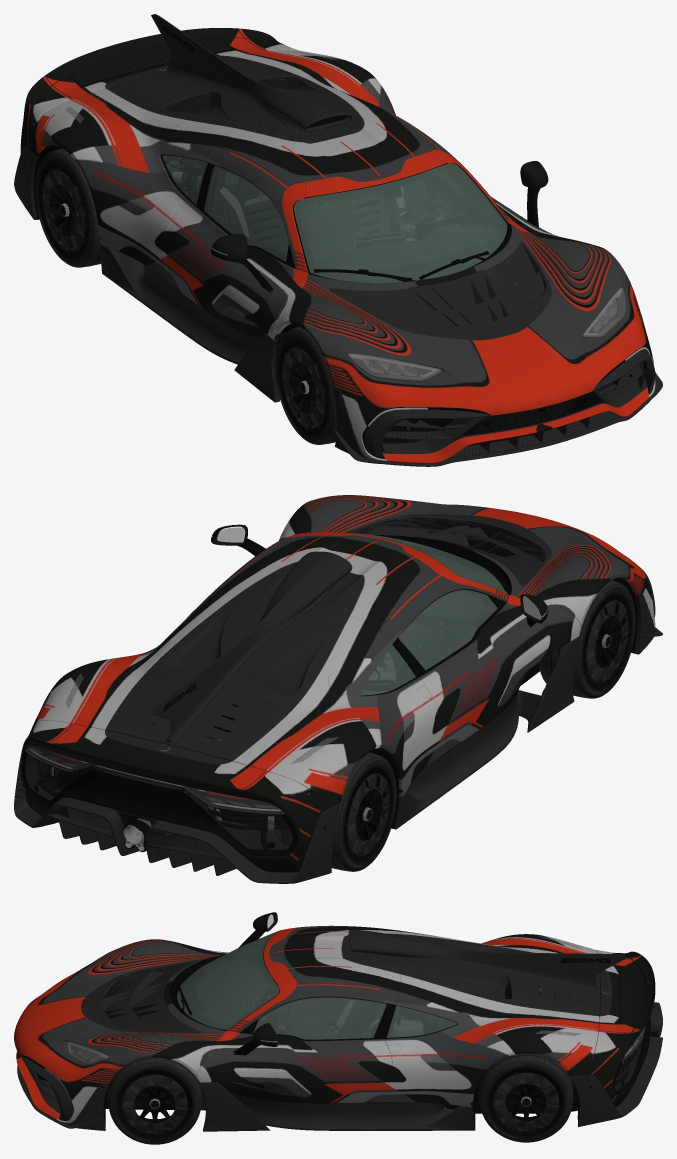
Rendered from silver_arrow.glb.
The picture shows the model from 3 angles, top to bottom: view 1: azimuth 30°, elevation 25°; view 2: azimuth 150°, elevation 25°; view 3: azimuth 270°, elevation 25°; orthographic projection. The views are drawn at different scales.
Visible parts, largest first — view 1: amgprojone_door_R.001_amgprojone_paint_0, amgprojone_rim.006_amgprojone_carbon_0, amgprojone_windshield_amgprojone_clearglass2_0, amgprojone_tailgate.002_amgprojone_carbon5_0, amgprojone_spoiler_amgprojone_plastic_0, amgprojone_door_R.012_amgprojone_interior_alcantara_0, amgprojone_tire_amgprojone_tire_0, amgprojone_rim.008_amgprojone_plastic3_0, amgprojone_rim.004_amgprojone_wheels_0, amgprojone_body.014_interior.001_0, amgprojone_tailgate_amgprojone_decal_grill1_0, amgprojone_headlightframe_R.001_amgprojone_glass.005_0 (+4 smaller); view 2: amgprojone_door_R.001_amgprojone_paint_0, amgprojone_rim.006_amgprojone_carbon_0, amgprojone_tailgate.002_amgprojone_carbon5_0, amgprojone_spoiler_amgprojone_plastic_0, amgprojone_windshield_amgprojone_clearglass2_0, amgprojone_tire_amgprojone_tire_0, amgprojone_tailgate_amgprojone_decal_grill1_0, amgprojone_rim.004_amgprojone_wheels_0, amgprojone_rim.007_amgprojone_plastic2_0, amgprojone_bumper_R_amgprojone_clearglass_0, amgprojone_rim.008_amgprojone_plastic3_0, amgprojone_door_R.012_amgprojone_interior_alcantara_0 (+2 smaller); view 3: amgprojone_door_R.001_amgprojone_paint_0, amgprojone_rim.006_amgprojone_carbon_0, amgprojone_windshield_amgprojone_clearglass2_0, amgprojone_tailgate.002_amgprojone_carbon5_0, amgprojone_tire_amgprojone_tire_0, amgprojone_spoiler_amgprojone_plastic_0, amgprojone_door_R.012_amgprojone_interior_alcantara_0, amgprojone_rim.004_amgprojone_wheels_0, amgprojone_rim.007_amgprojone_plastic2_0, amgprojone_rim.008_amgprojone_plastic3_0, amgprojone_rim.010_amgprojone_grey_0, amgprojone_headlightframe_R.001_amgprojone_glass.005_0 (+2 smaller).
Boxes of the visible parts, left/top/right/bottom form: amgprojone_door_R.001_amgprojone_paint_0: left=20, top=28, right=655, bottom=463; amgprojone_rim.006_amgprojone_carbon_0: left=14, top=14, right=662, bottom=466; amgprojone_windshield_amgprojone_clearglass2_0: left=162, top=155, right=547, bottom=283; amgprojone_tailgate.002_amgprojone_carbon5_0: left=32, top=60, right=510, bottom=339; amgprojone_spoiler_amgprojone_plastic_0: left=24, top=25, right=624, bottom=427; amgprojone_door_R.012_amgprojone_interior_alcantara_0: left=212, top=168, right=502, bottom=289; amgprojone_tire_amgprojone_tire_0: left=35, top=148, right=336, bottom=444; amgprojone_rim.008_amgprojone_plastic3_0: left=69, top=38, right=632, bottom=453; amgprojone_rim.004_amgprojone_wheels_0: left=39, top=162, right=328, bottom=435; amgprojone_body.014_interior.001_0: left=228, top=178, right=409, bottom=251; amgprojone_tailgate_amgprojone_decal_grill1_0: left=164, top=78, right=600, bottom=445; amgprojone_headlightframe_R.001_amgprojone_glass.005_0: left=347, top=287, right=626, bottom=381; amgprojone_door_R.001_amgprojone_paint_0: left=20, top=495, right=655, bottom=872; amgprojone_rim.006_amgprojone_carbon_0: left=14, top=508, right=662, bottom=883; amgprojone_tailgate.002_amgprojone_carbon5_0: left=25, top=553, right=521, bottom=849; amgprojone_spoiler_amgprojone_plastic_0: left=22, top=536, right=610, bottom=856; amgprojone_windshield_amgprojone_clearglass2_0: left=211, top=532, right=547, bottom=695; amgprojone_tire_amgprojone_tire_0: left=331, top=580, right=635, bottom=871; amgprojone_tailgate_amgprojone_decal_grill1_0: left=25, top=753, right=292, bottom=849; amgprojone_rim.004_amgprojone_wheels_0: left=344, top=593, right=631, bottom=861; amgprojone_rim.007_amgprojone_plastic2_0: left=39, top=539, right=637, bottom=856; amgprojone_bumper_R_amgprojone_clearglass_0: left=25, top=745, right=284, bottom=814; amgprojone_rim.008_amgprojone_plastic3_0: left=34, top=535, right=642, bottom=852; amgprojone_door_R.012_amgprojone_interior_alcantara_0: left=419, top=592, right=481, bottom=649; amgprojone_door_R.001_amgprojone_paint_0: left=14, top=912, right=655, bottom=1123; amgprojone_rim.006_amgprojone_carbon_0: left=17, top=929, right=662, bottom=1133; amgprojone_windshield_amgprojone_clearglass2_0: left=177, top=917, right=457, bottom=1042; amgprojone_tailgate.002_amgprojone_carbon5_0: left=196, top=931, right=643, bottom=1110; amgprojone_tire_amgprojone_tire_0: left=107, top=1053, right=573, bottom=1144; amgprojone_spoiler_amgprojone_plastic_0: left=36, top=930, right=650, bottom=1108; amgprojone_door_R.012_amgprojone_interior_alcantara_0: left=220, top=935, right=367, bottom=1036; amgprojone_rim.004_amgprojone_wheels_0: left=117, top=1067, right=563, bottom=1138; amgprojone_rim.007_amgprojone_plastic2_0: left=103, top=952, right=579, bottom=1130; amgprojone_rim.008_amgprojone_plastic3_0: left=23, top=954, right=657, bottom=1131; amgprojone_rim.010_amgprojone_grey_0: left=68, top=988, right=623, bottom=1108; amgprojone_headlightframe_R.001_amgprojone_glass.005_0: left=65, top=961, right=108, bottom=1064.
Size of the model in its own units: 2 by 1.15 by 4.36.
Materials: 36 (18 with a texture image).
